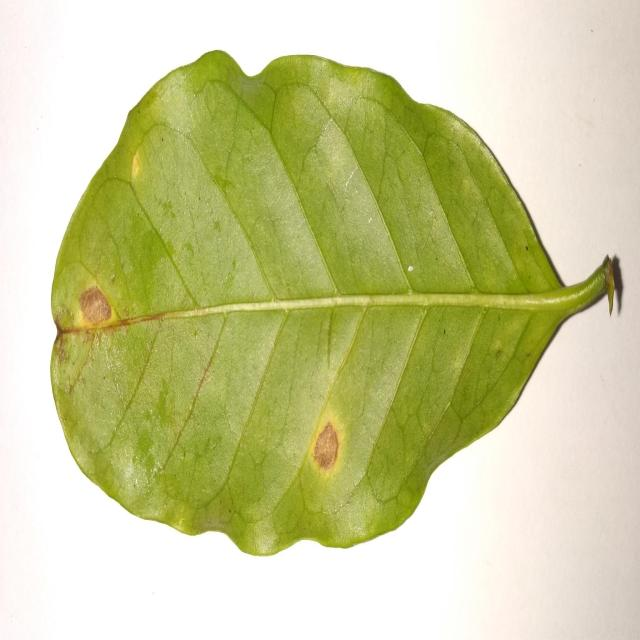Enfermedad-Mancha-de-hierro: (49, 51, 623, 560)
